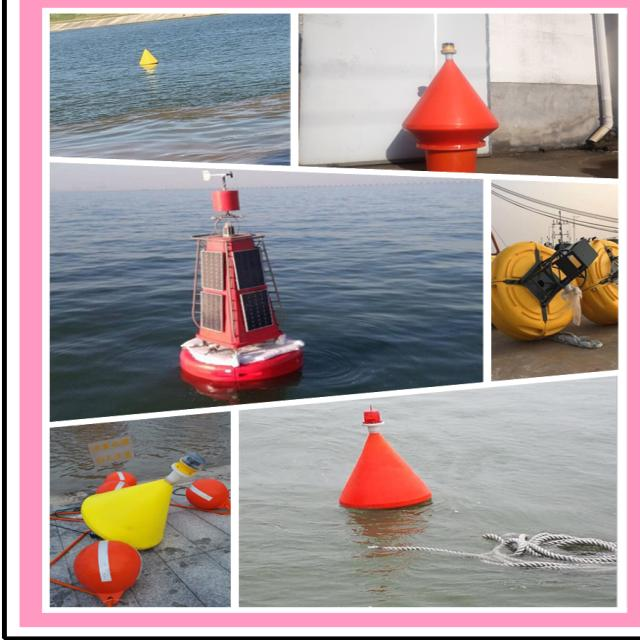buoy: (168, 168, 312, 388), (405, 37, 510, 173), (84, 449, 204, 548), (331, 407, 425, 514), (134, 47, 165, 74)
